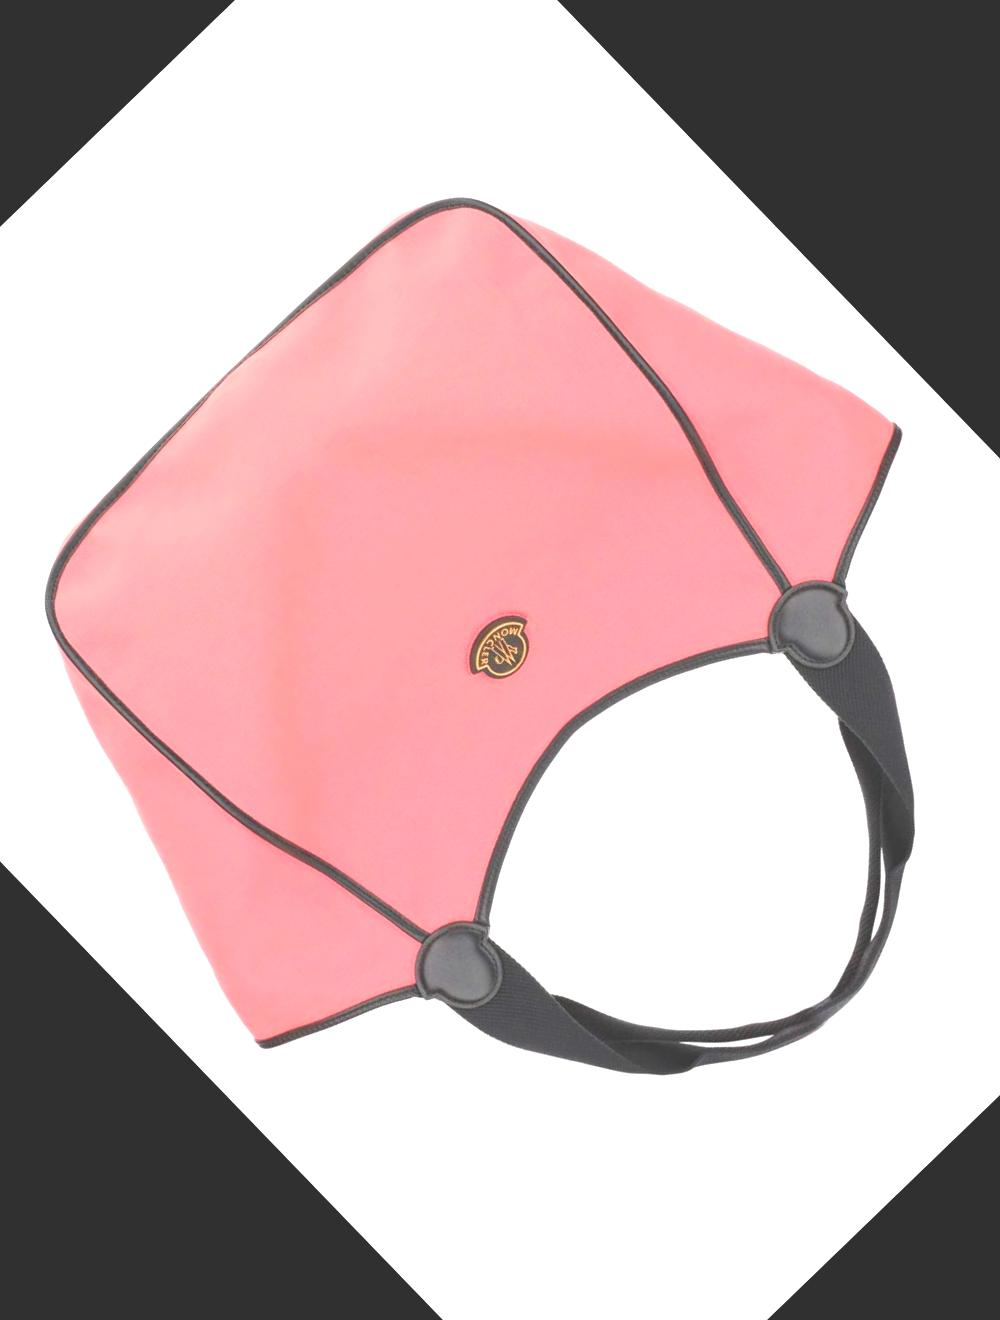MONCLER: (451, 600, 548, 697)
